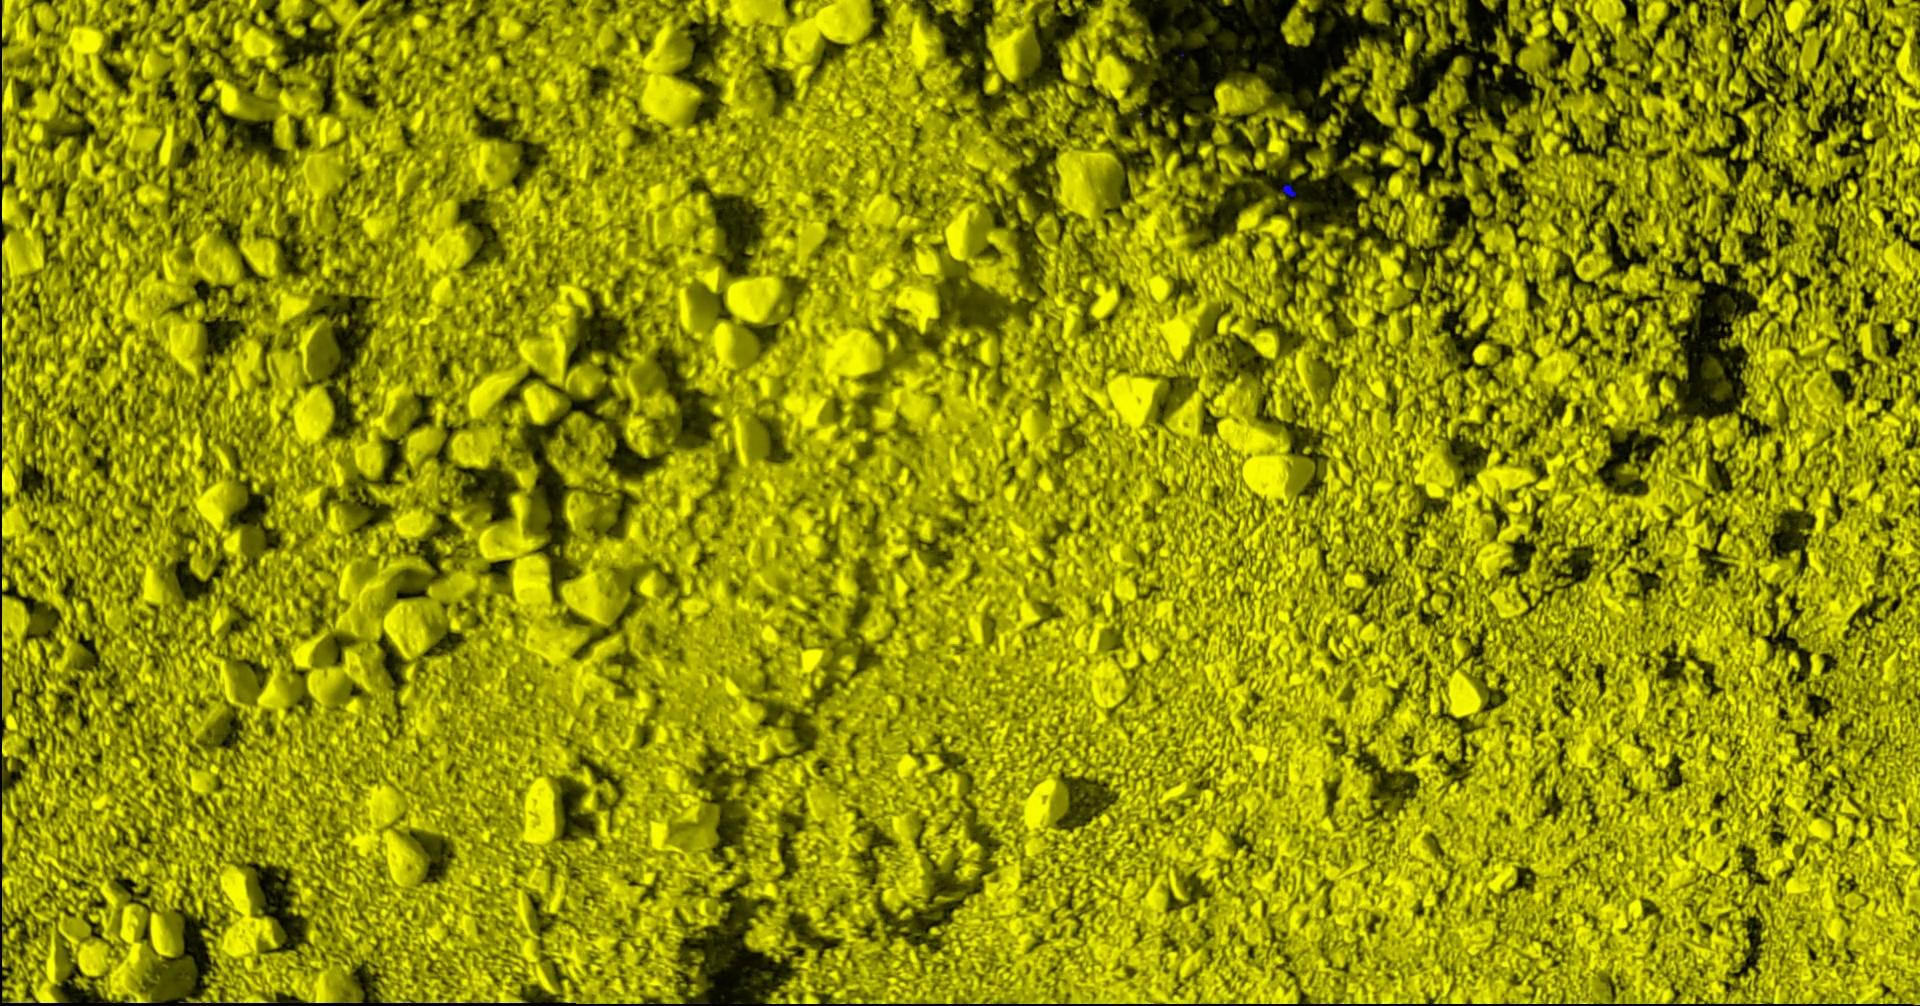ant: (1281, 183, 1297, 196)
